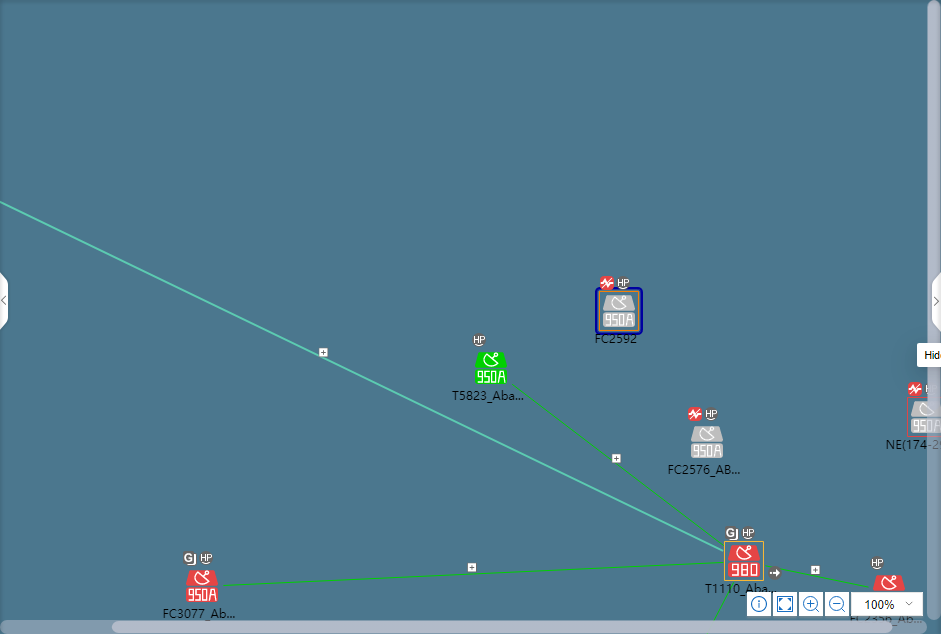Link_Blue: (0, 200, 723, 553)
Link_Green: (511, 380, 724, 548), (223, 561, 724, 588), (779, 567, 870, 589), (712, 582, 735, 621)
RTN_Gray: (906, 399, 940, 437), (600, 294, 635, 330), (691, 427, 722, 459)
RTN_Green: (474, 353, 506, 385)
RTN_Red: (724, 543, 762, 581), (186, 571, 217, 603), (873, 577, 904, 592)
